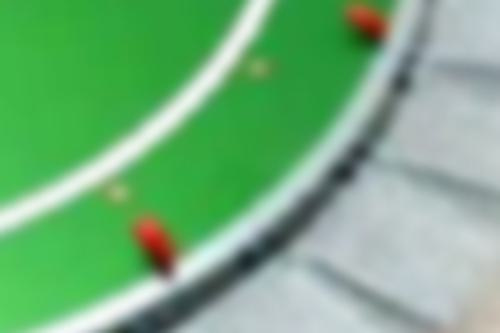Apron: (1, 1, 273, 238)
